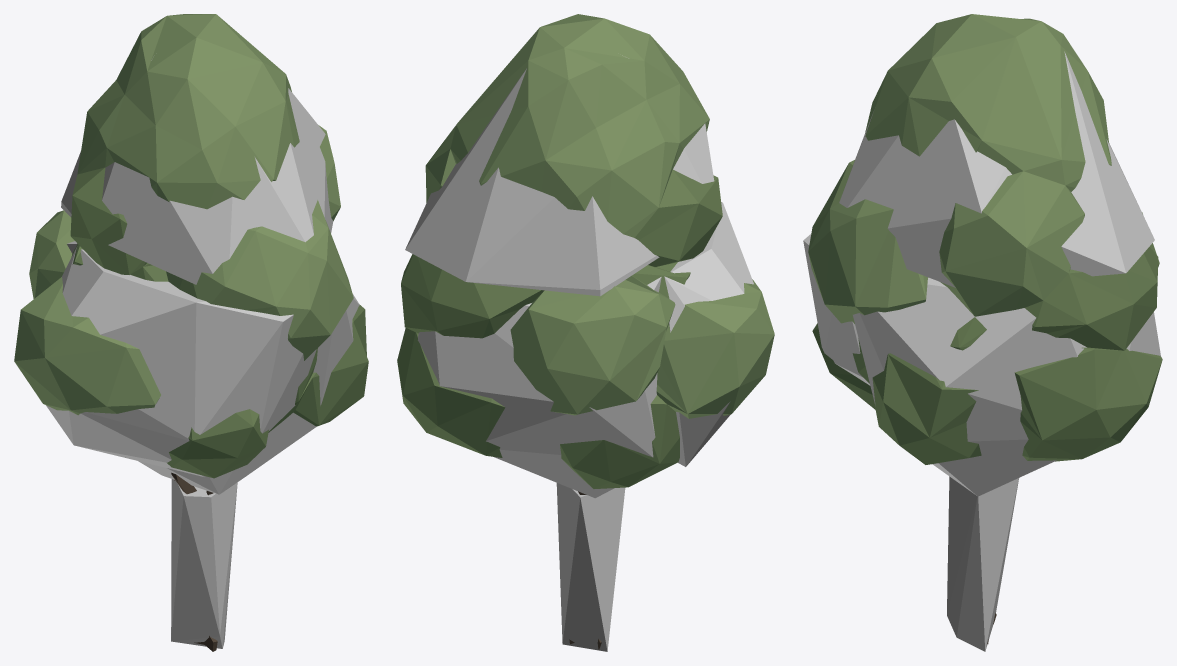
Rendered from SM_Env_Tree_01.fbx.
The picture shows the model from 3 angles, left to right: view 1: azimuth 30°, elevation 25°; view 2: azimuth 150°, elevation 25°; view 3: azimuth 270°, elevation 25°; orthographic projection. The views are drawn at different scales.
Parts seen in each view (by area): view 1: SM_Env_Tree_01, SM_Env_Tree_01_ConvexHulls; view 2: SM_Env_Tree_01, SM_Env_Tree_01_ConvexHulls; view 3: SM_Env_Tree_01, SM_Env_Tree_01_ConvexHulls.
Part boxes in pixels (x1,y1,x2,y2): SM_Env_Tree_01: [14, 14, 368, 651]; SM_Env_Tree_01_ConvexHulls: [46, 60, 359, 648]; SM_Env_Tree_01: [397, 14, 774, 649]; SM_Env_Tree_01_ConvexHulls: [405, 55, 753, 651]; SM_Env_Tree_01: [808, 14, 1162, 644]; SM_Env_Tree_01_ConvexHulls: [803, 51, 1160, 651].
Size of the model in its own units: 807 by 798 by 1520.
Materials: 2 (1 with a texture image).
